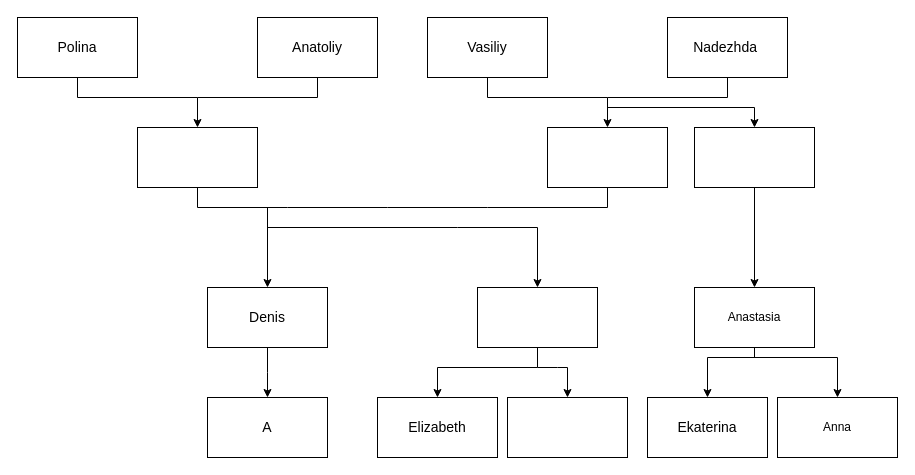
This 915x475 diagram has some shape labels left out. The centre of each missing label's shape, as x and y in pixels:
Elena: the point at 197,157
Ludmila: the point at 537,317
Lyubov: the point at 754,157
Svyatoslav: the point at 567,427
Yur i: the point at 607,157
